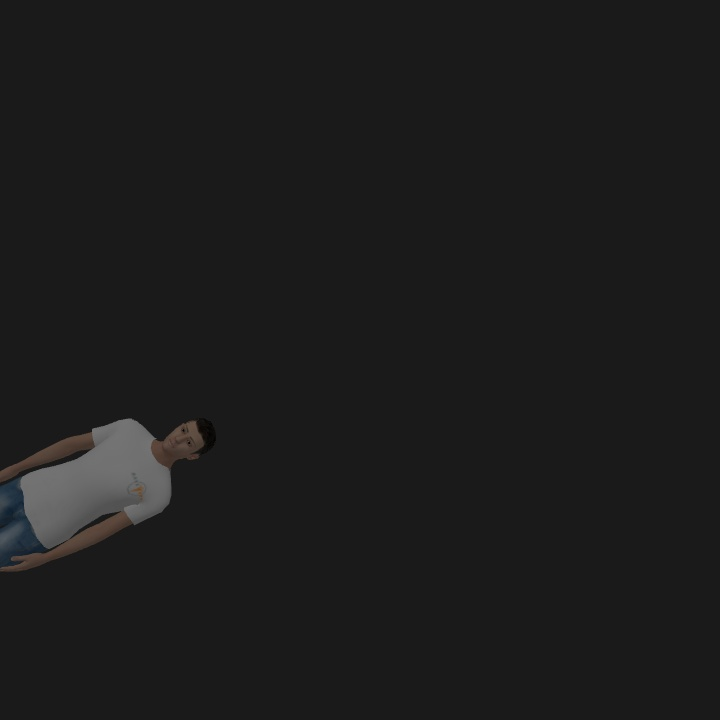victim: (3, 414, 218, 575)
